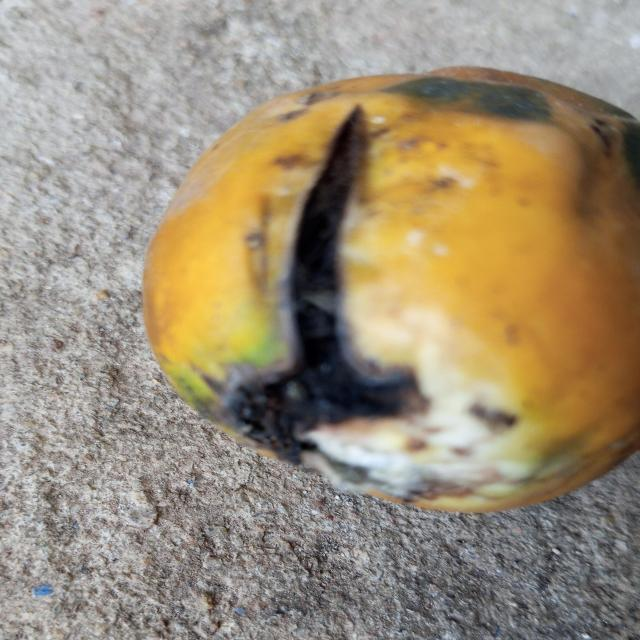damaged: (144, 68, 640, 512)
